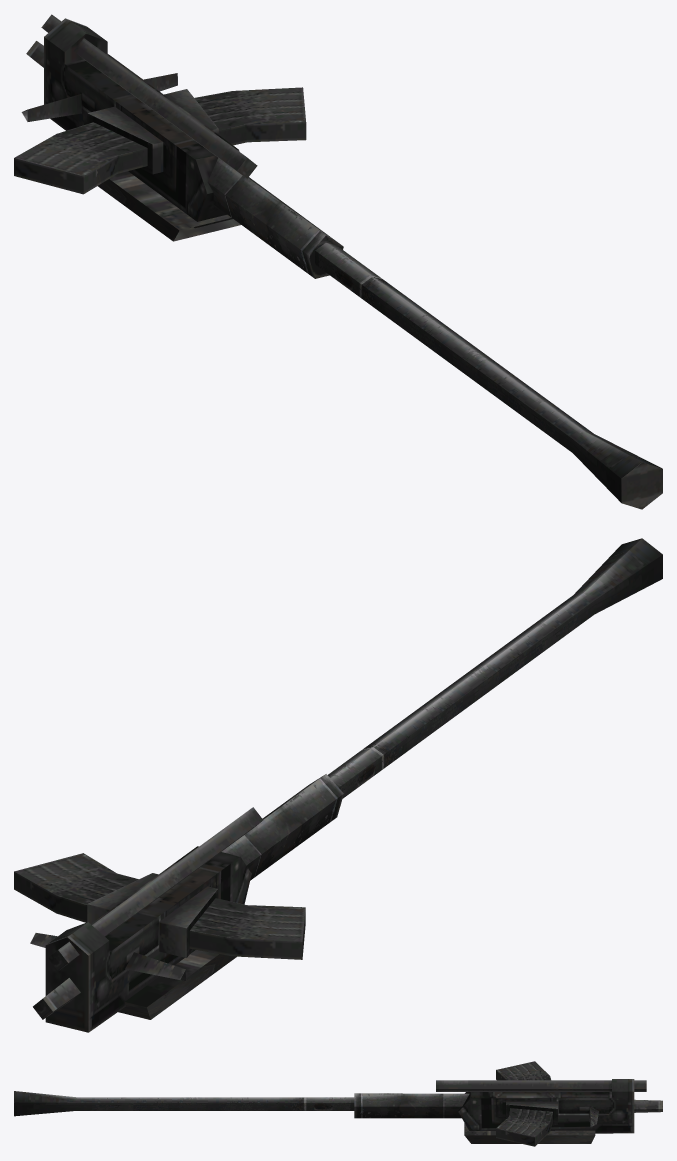
Rendered from AA_flak38.FBX.
3 renders of one model, top to bottom at view 1: azimuth 30°, elevation 25°; view 2: azimuth 150°, elevation 25°; view 3: azimuth 270°, elevation 25°, orthographic. The views are drawn at different scales.
Parts seen in each view (by area): view 1: FlaK38_Gun, FlaK38_Barrel, FlaK38_Clip_Right, FlaK38_Clip_Left; view 2: FlaK38_Gun, FlaK38_Barrel, FlaK38_Clip_Right, FlaK38_Clip_Left, FlaK38_Bolt; view 3: FlaK38_Gun, FlaK38_Barrel, FlaK38_Clip_Left, FlaK38_Clip_Right, FlaK38_Bolt.
Part boxes in pixels (bbox=[...]): FlaK38_Gun: bbox=[21, 14, 343, 278]; FlaK38_Barrel: bbox=[315, 243, 662, 509]; FlaK38_Clip_Right: bbox=[14, 106, 163, 194]; FlaK38_Clip_Left: bbox=[164, 87, 306, 145]; FlaK38_Gun: bbox=[30, 774, 343, 1032]; FlaK38_Barrel: bbox=[328, 538, 662, 798]; FlaK38_Clip_Right: bbox=[159, 886, 305, 959]; FlaK38_Clip_Left: bbox=[14, 853, 158, 923]; FlaK38_Bolt: bbox=[33, 978, 80, 1019]; FlaK38_Gun: bbox=[354, 1079, 646, 1143]; FlaK38_Barrel: bbox=[14, 1091, 354, 1116]; FlaK38_Clip_Left: bbox=[496, 1101, 557, 1146]; FlaK38_Clip_Right: bbox=[496, 1061, 550, 1080]; FlaK38_Bolt: bbox=[634, 1099, 662, 1112].
Size of the model in its own units: 0.7772 by 0.2613 by 2.81.
